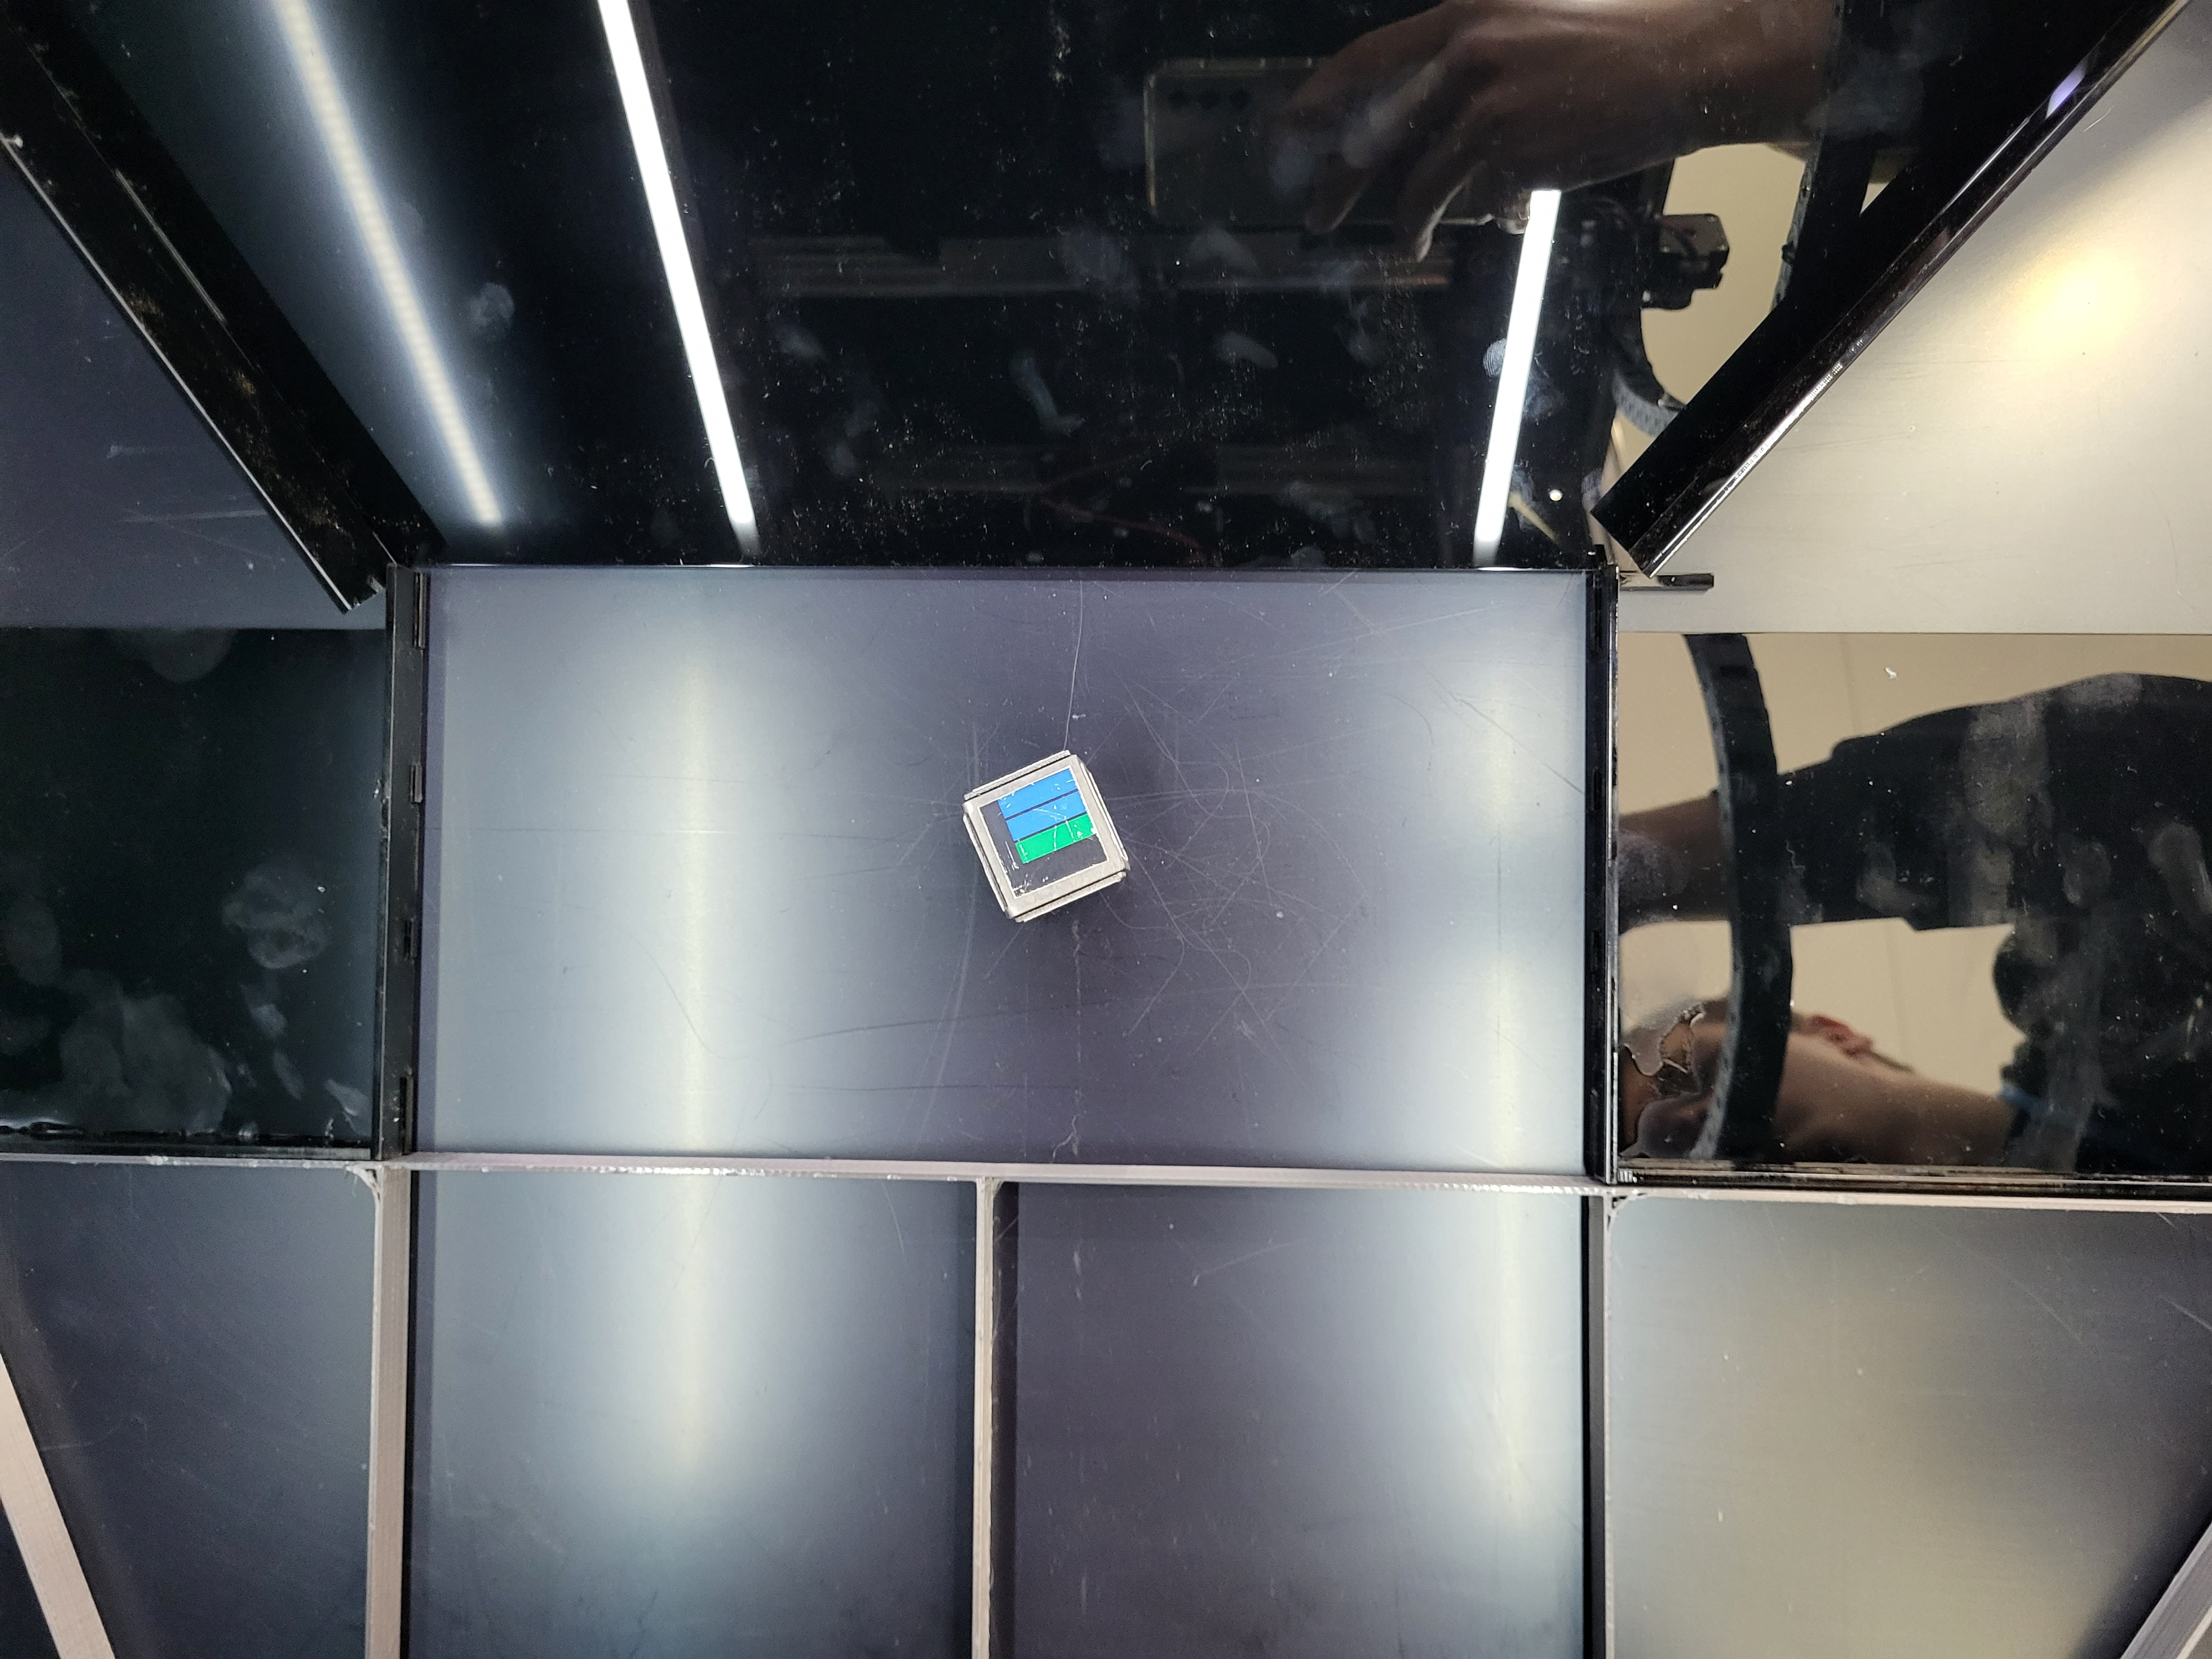Cube: (946, 728, 1134, 934)
